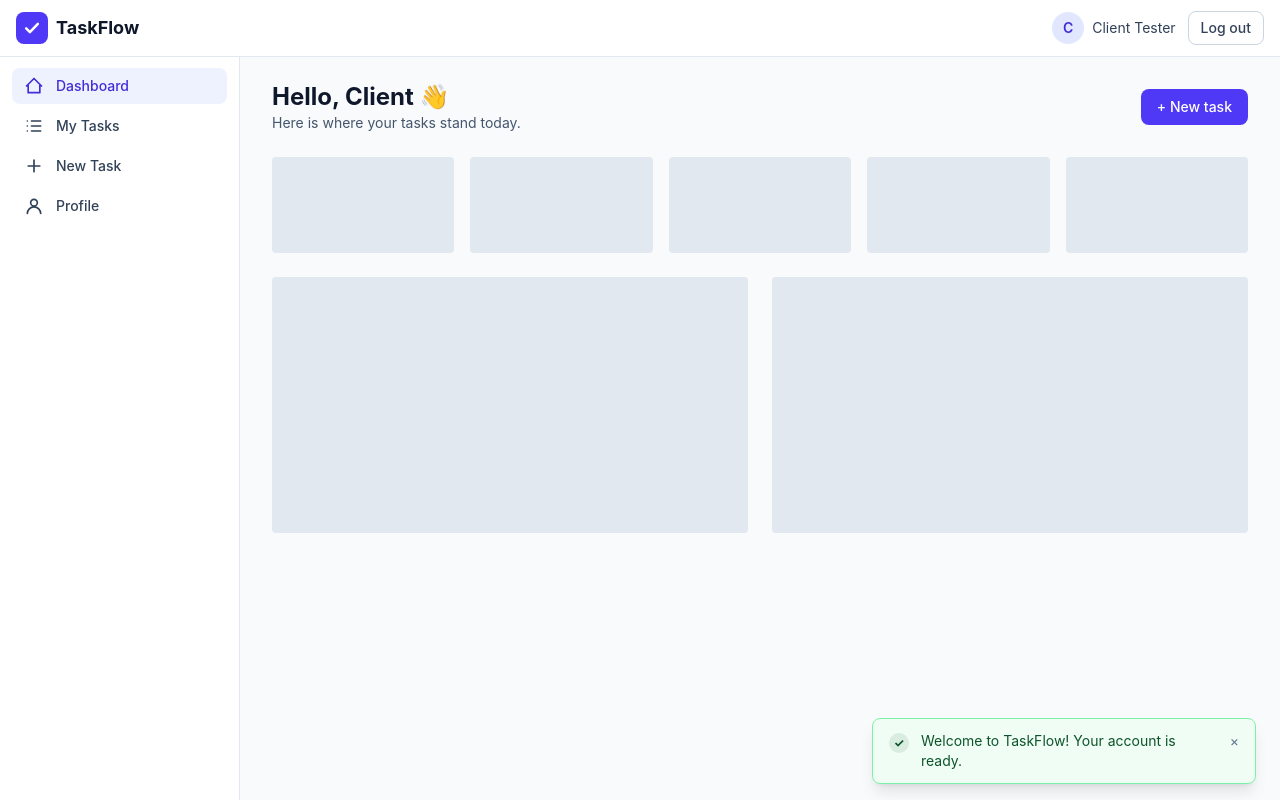
Test case: GitHub Pages demo › registers a new account, lands on an empty dashboard, and rejects a duplicate email
Earlier steps of the test are not shown.
Expected: the heading "Hello, Client 👋" is shown, [272,82,449,111]
Click the button "Log out" at coordinates (1226, 28), box [1188,11,1264,45]
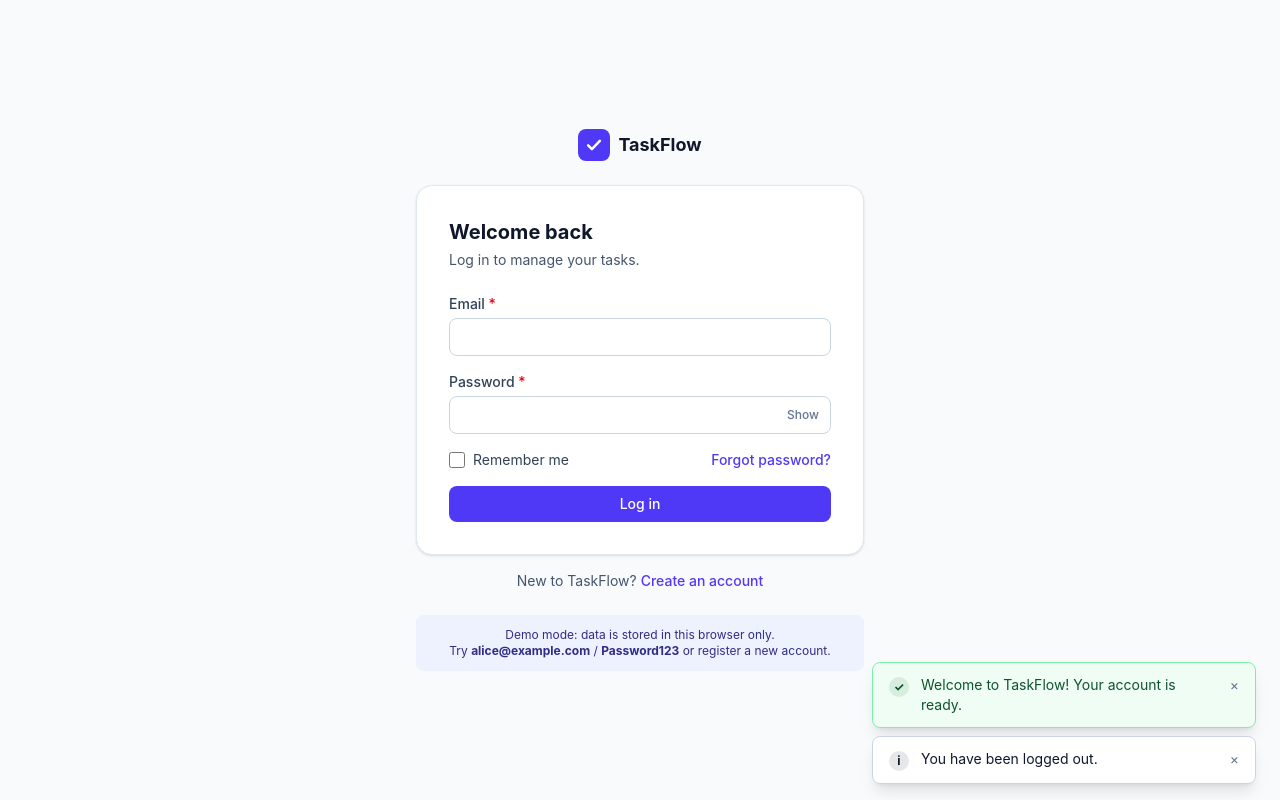
Click the link "Create an account" at coordinates (702, 580), box [641,572,763,589]
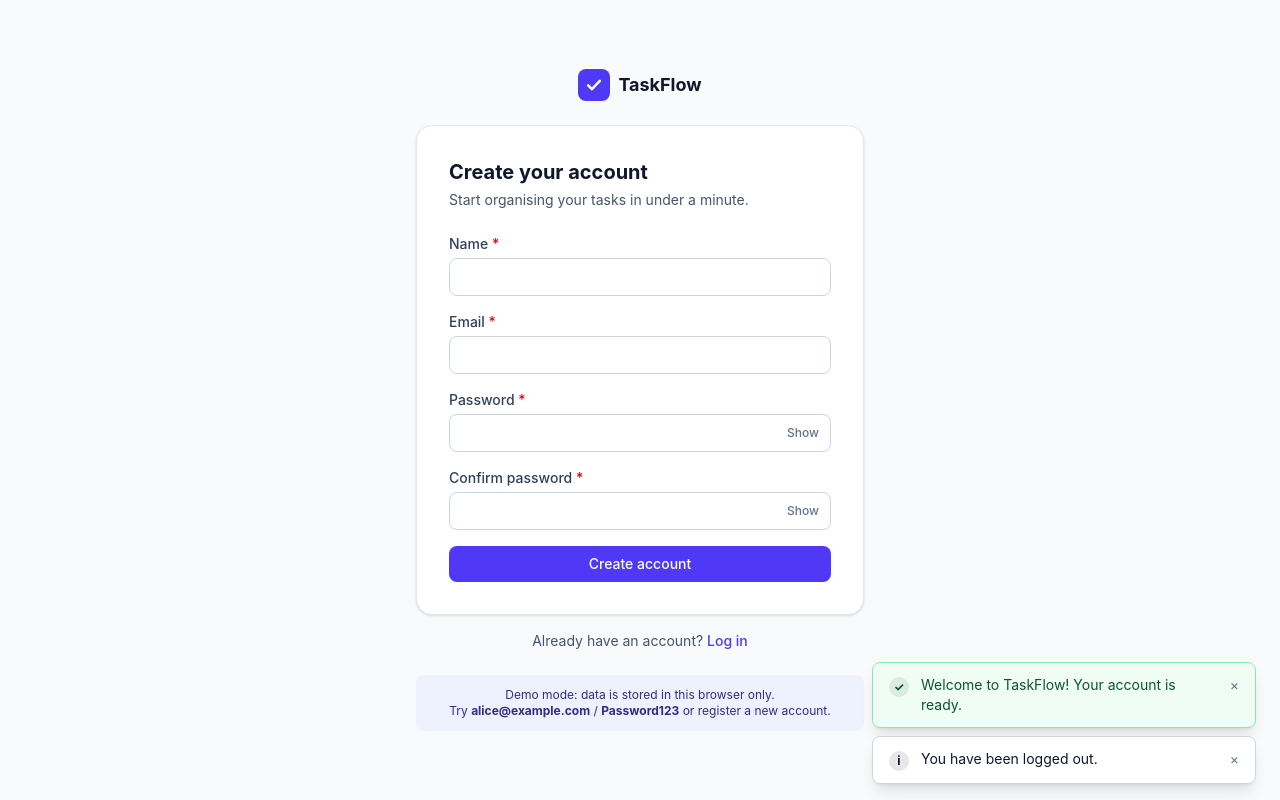
Type "Dup" into the field labelled "Name *" at coordinates (640, 277), box [449,258,831,296]
Type "client@example.org" into the field labelled "Email *" at coordinates (640, 355), box [449,336,831,374]
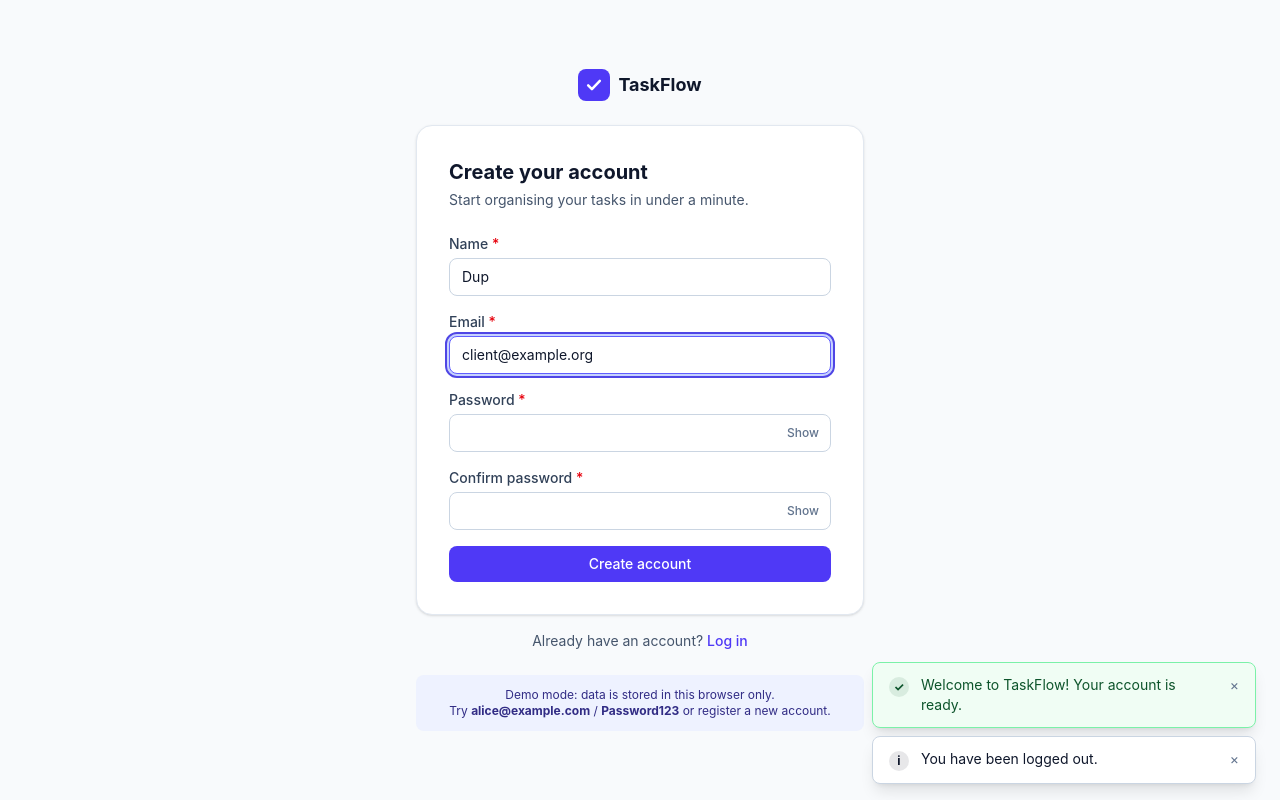
Type "Sup3rSecret99" into the password field labelled "Password *" at coordinates (640, 433), box [449,414,831,452]
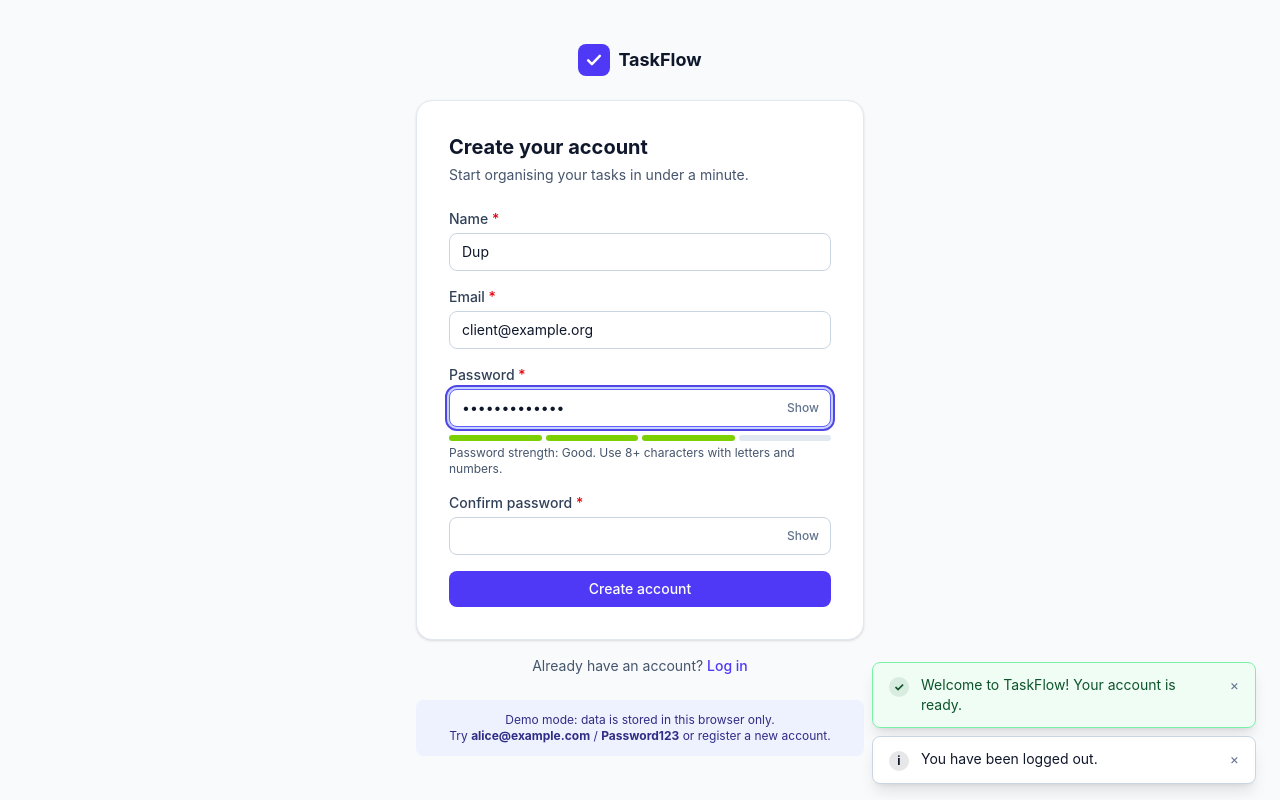
Type "Sup3rSecret99" into the password field labelled "Confirm password *" at coordinates (640, 536), box [449,517,831,555]
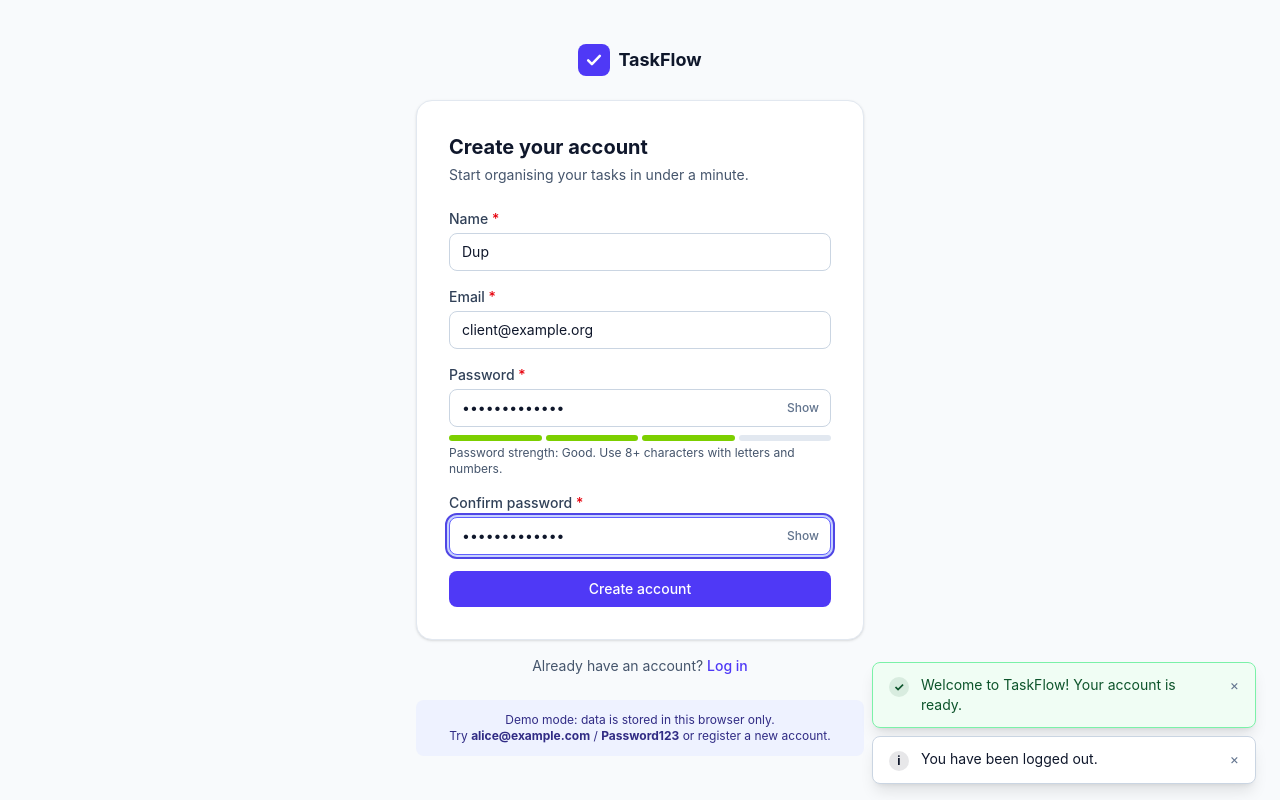
Click the button "Create account" at coordinates (640, 589), box [449,571,831,607]
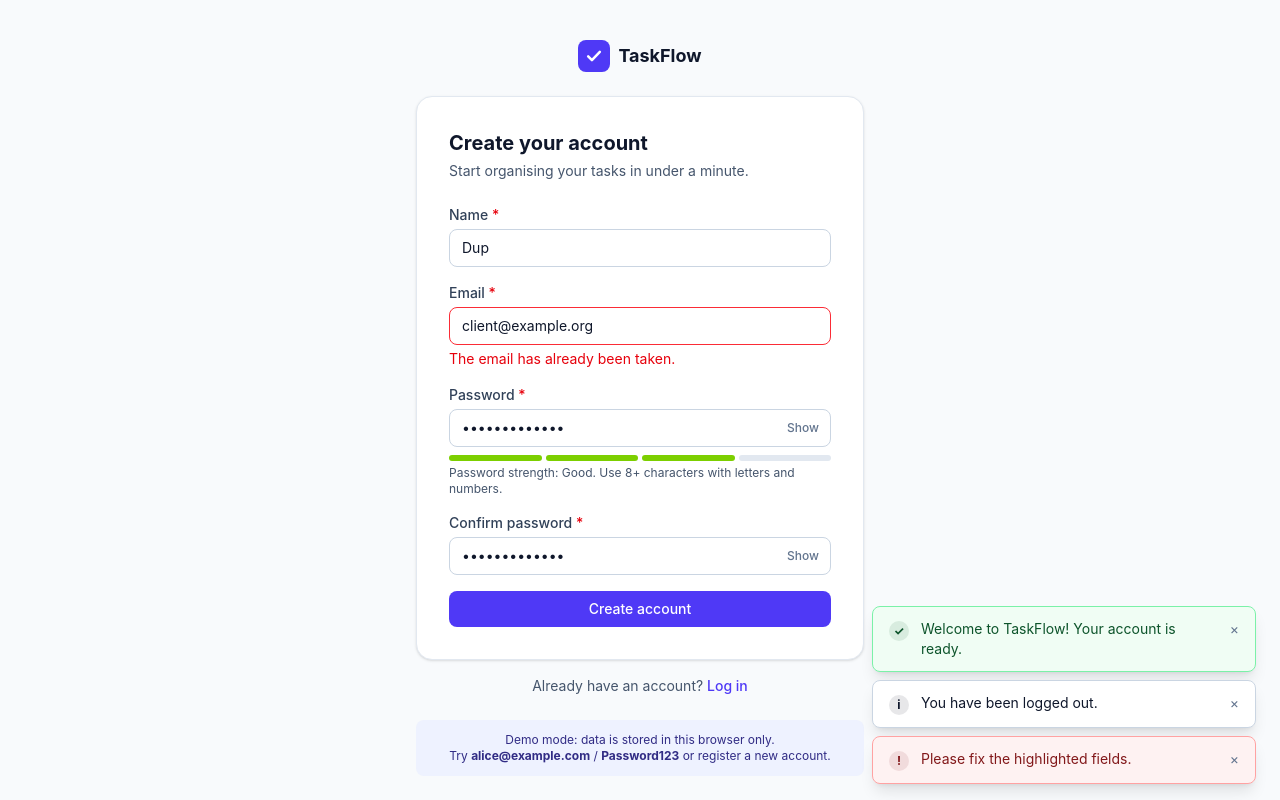
Now the text "The email has already been taken." is shown, box [449,350,675,367]
